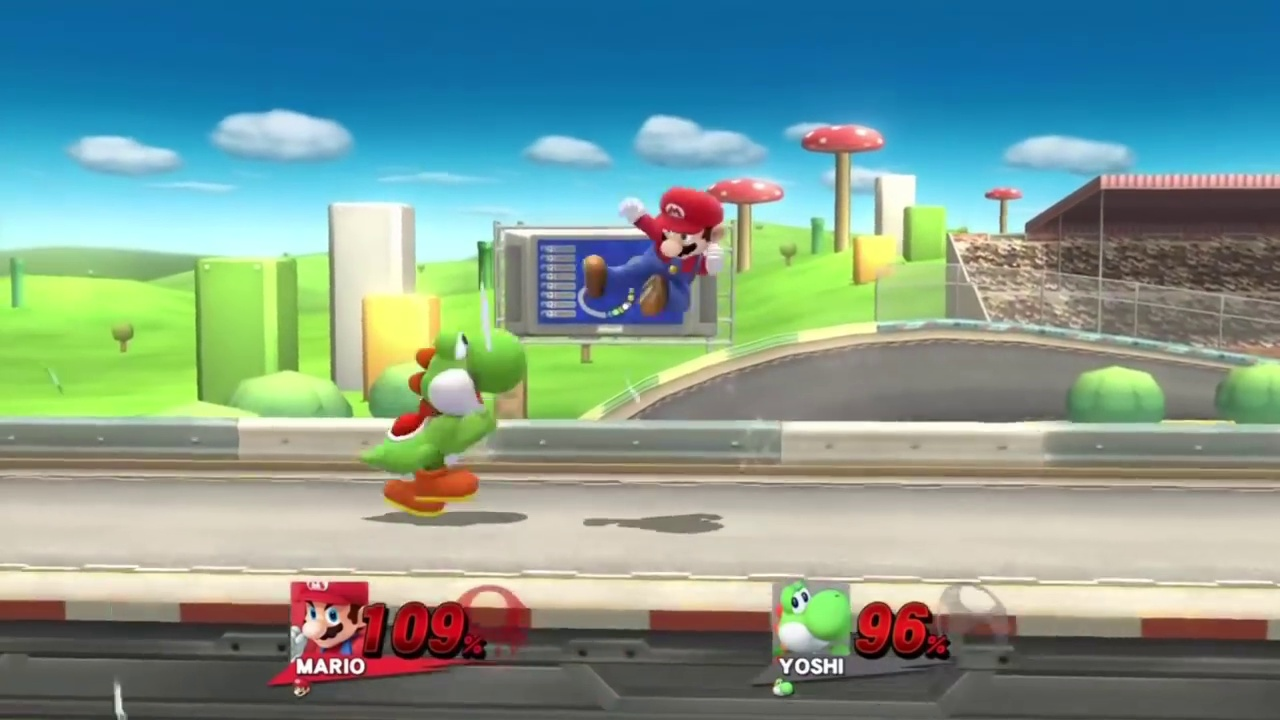Mario: (583, 187, 726, 320)
